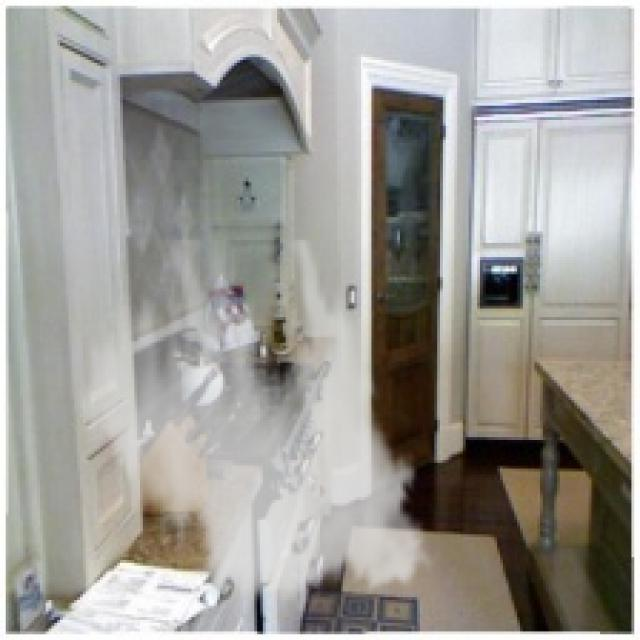smoke: (68, 237, 443, 620)
